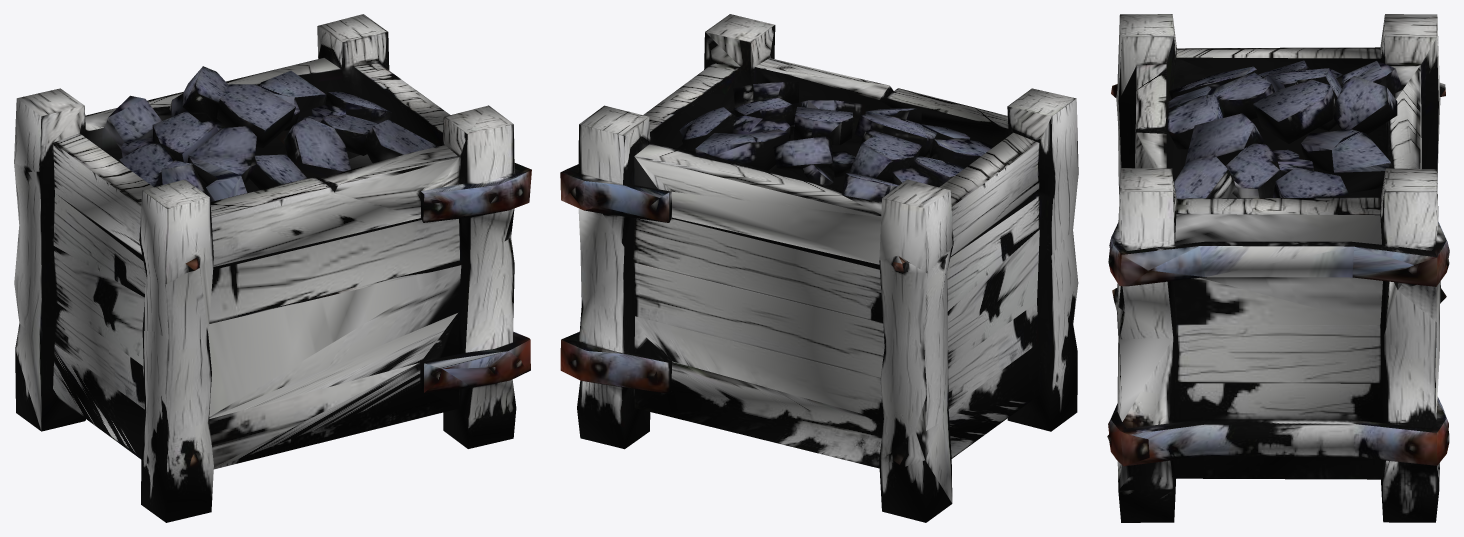
Rendered from lhi_coal_bin_front.glb.
The picture shows the model from 3 angles, left to right: view 1: azimuth 30°, elevation 25°; view 2: azimuth 150°, elevation 25°; view 3: azimuth 270°, elevation 25°; orthographic projection. The views are drawn at different scales.
Visible parts, largest first — view 1: material; view 2: material; view 3: material.
Boxes of the visible parts, x1,y1,x2,y2 form: material: (14, 14, 531, 522); material: (560, 14, 1078, 522); material: (1107, 14, 1449, 522).
Bounding box in the file's own units: 0.8215 × 0.6915 × 0.6259.
1 material, 1 textured.
